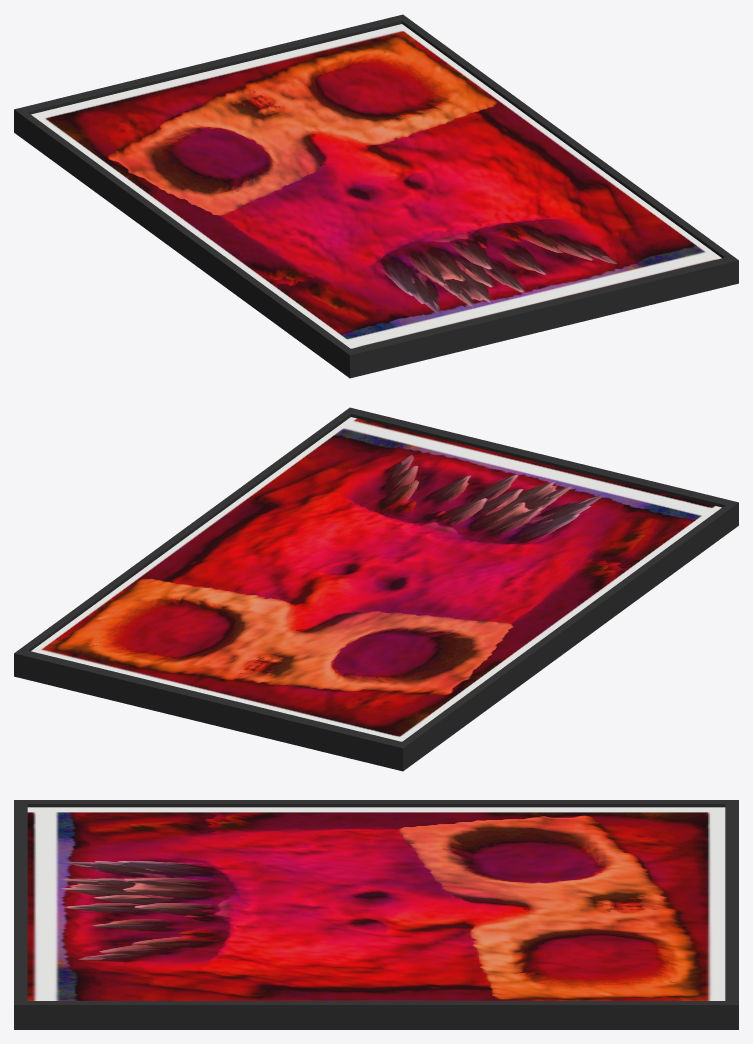
3 renders of one model, top to bottom at view 1: azimuth 30°, elevation 25°; view 2: azimuth 150°, elevation 25°; view 3: azimuth 270°, elevation 25°, orthographic. The views are drawn at different scales.
Visible parts, largest first — view 1: Plane; view 2: Plane; view 3: Plane.
Part boxes in pixels (box(x1,y1,x2,y2)): Plane: box(14, 14, 738, 378); Plane: box(14, 407, 738, 771); Plane: box(14, 800, 738, 1029).
Bounding box in the file's own units: 921 × 52.42 × 1377.
2 materials, 1 textured.
